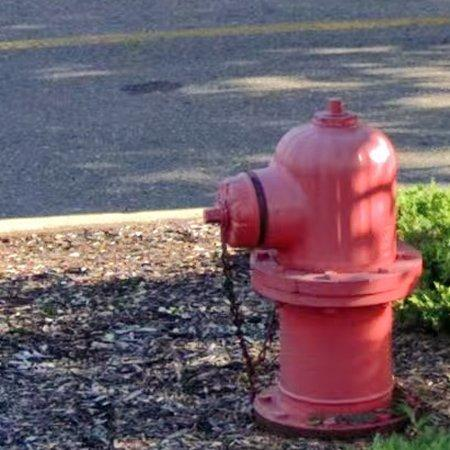a fire hydrant: (205, 99, 424, 436)
